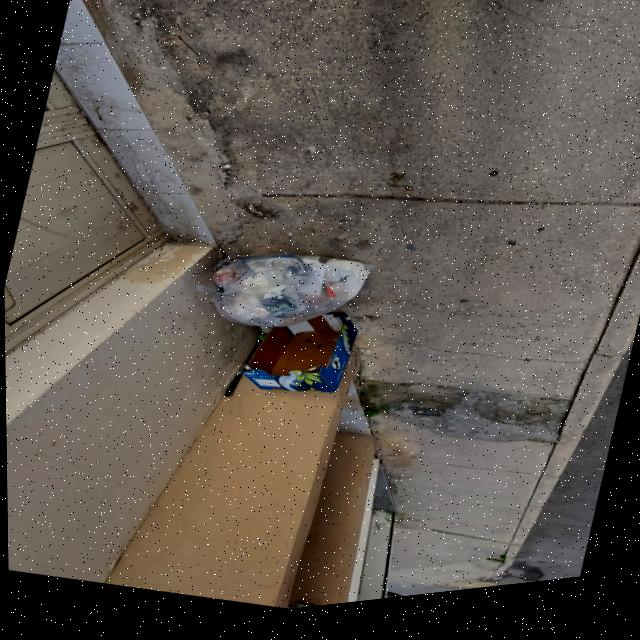Organic Waste -White Bag-: (197, 230, 373, 361)
